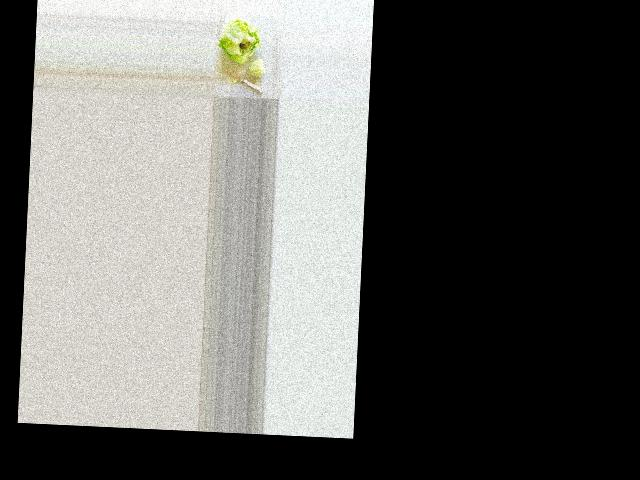lettuce: (219, 14, 261, 60)
